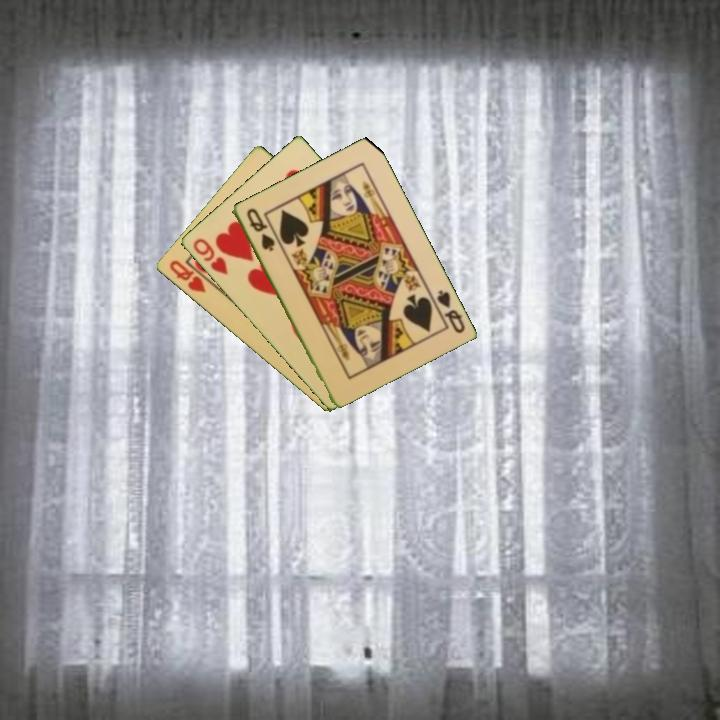9h: (189, 234, 231, 278)
Qh: (165, 256, 209, 296)
Qs: (427, 286, 468, 336), (243, 204, 277, 254)
